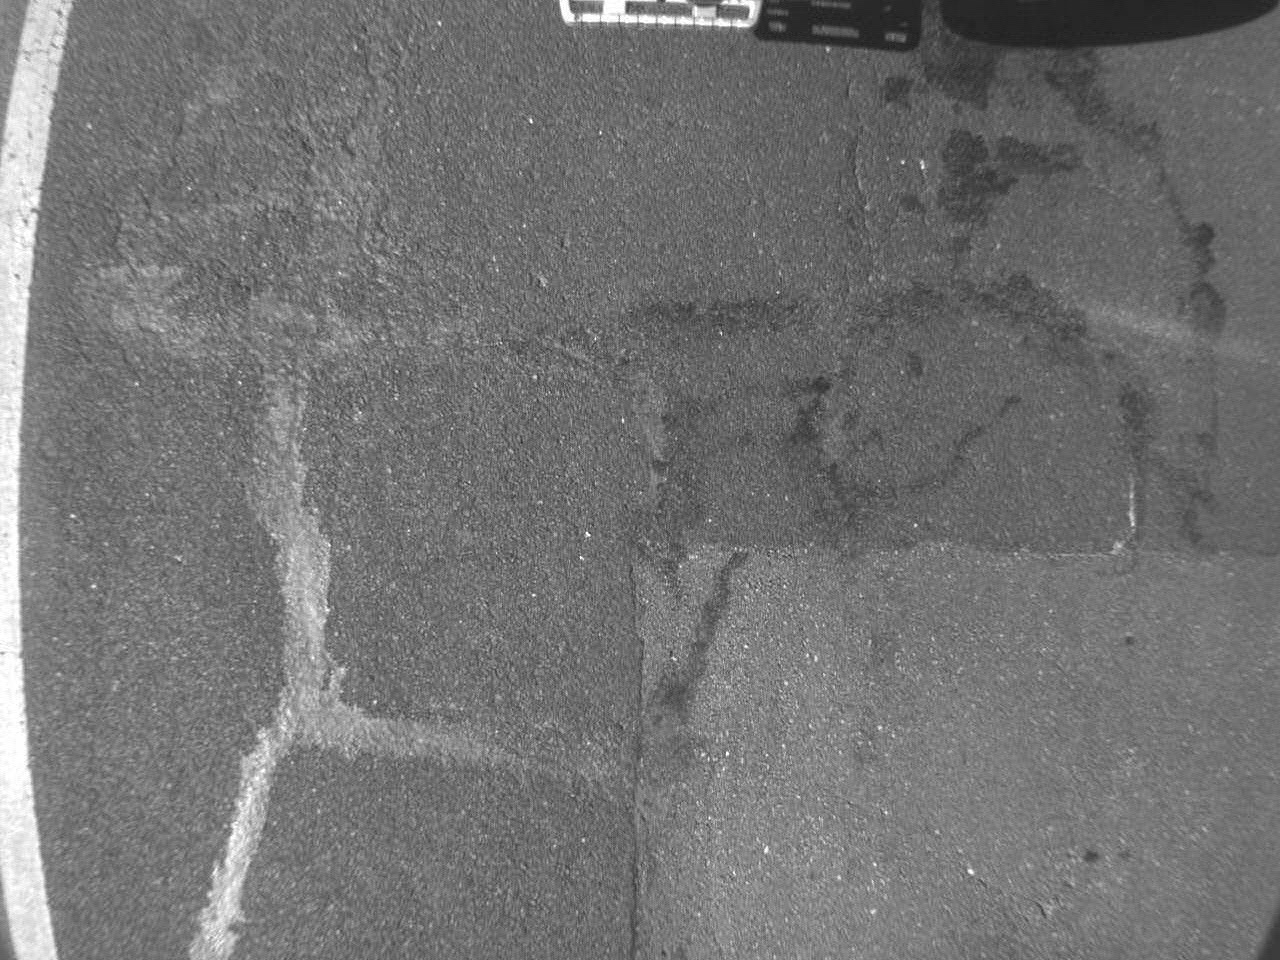sealed: (84, 256, 603, 947)
